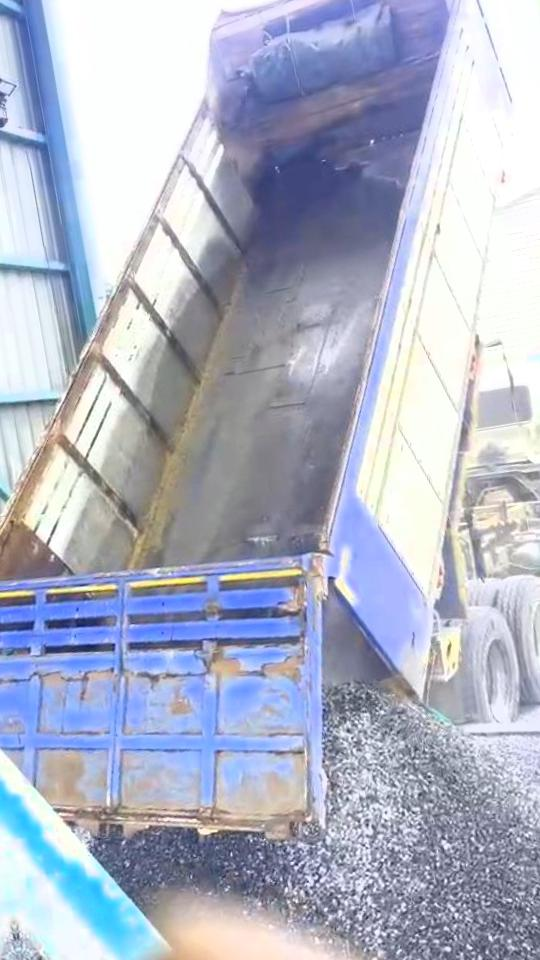gravel: (95, 687, 540, 960), (21, 959, 86, 960)
